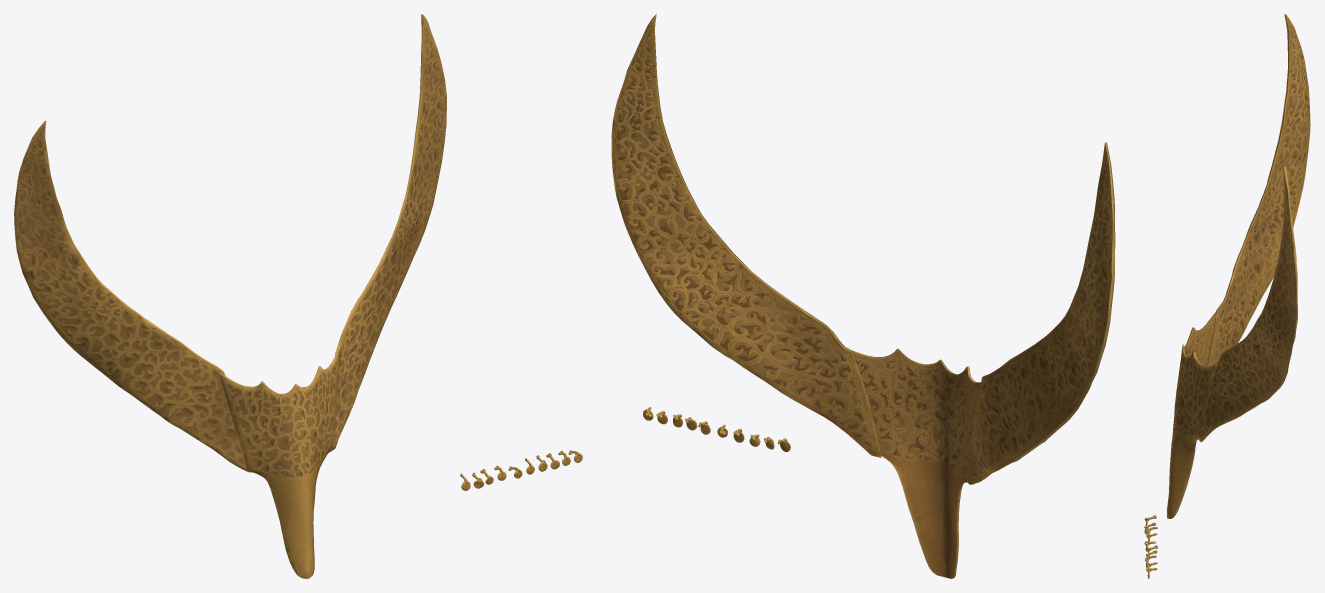
3 views of the same model, side by side, from view 1: azimuth 30°, elevation 25°; view 2: azimuth 150°, elevation 25°; view 3: azimuth 270°, elevation 25° (orthographic). The views are drawn at different scales.
Visible parts, largest first — view 1: SM_ShillaGoldDeco_02_Cage; view 2: SM_ShillaGoldDeco_02_Cage; view 3: SM_ShillaGoldDeco_02_Cage.
Part boxes in pixels (x1,y1,x2,y2): SM_ShillaGoldDeco_02_Cage: (14, 14, 582, 578); SM_ShillaGoldDeco_02_Cage: (611, 14, 1115, 578); SM_ShillaGoldDeco_02_Cage: (1144, 14, 1310, 578).
Size of the model in its own units: 0.4541 by 0.427 by 0.1496.
1 material, 1 textured.
